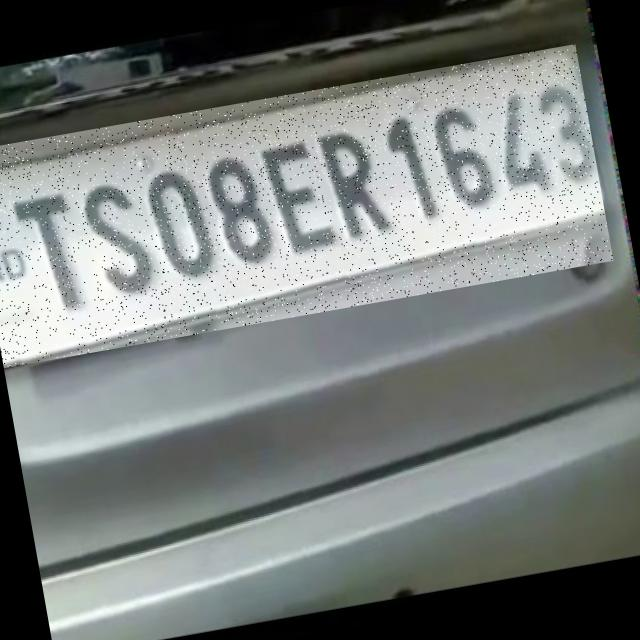Plate: (1, 45, 614, 369)
